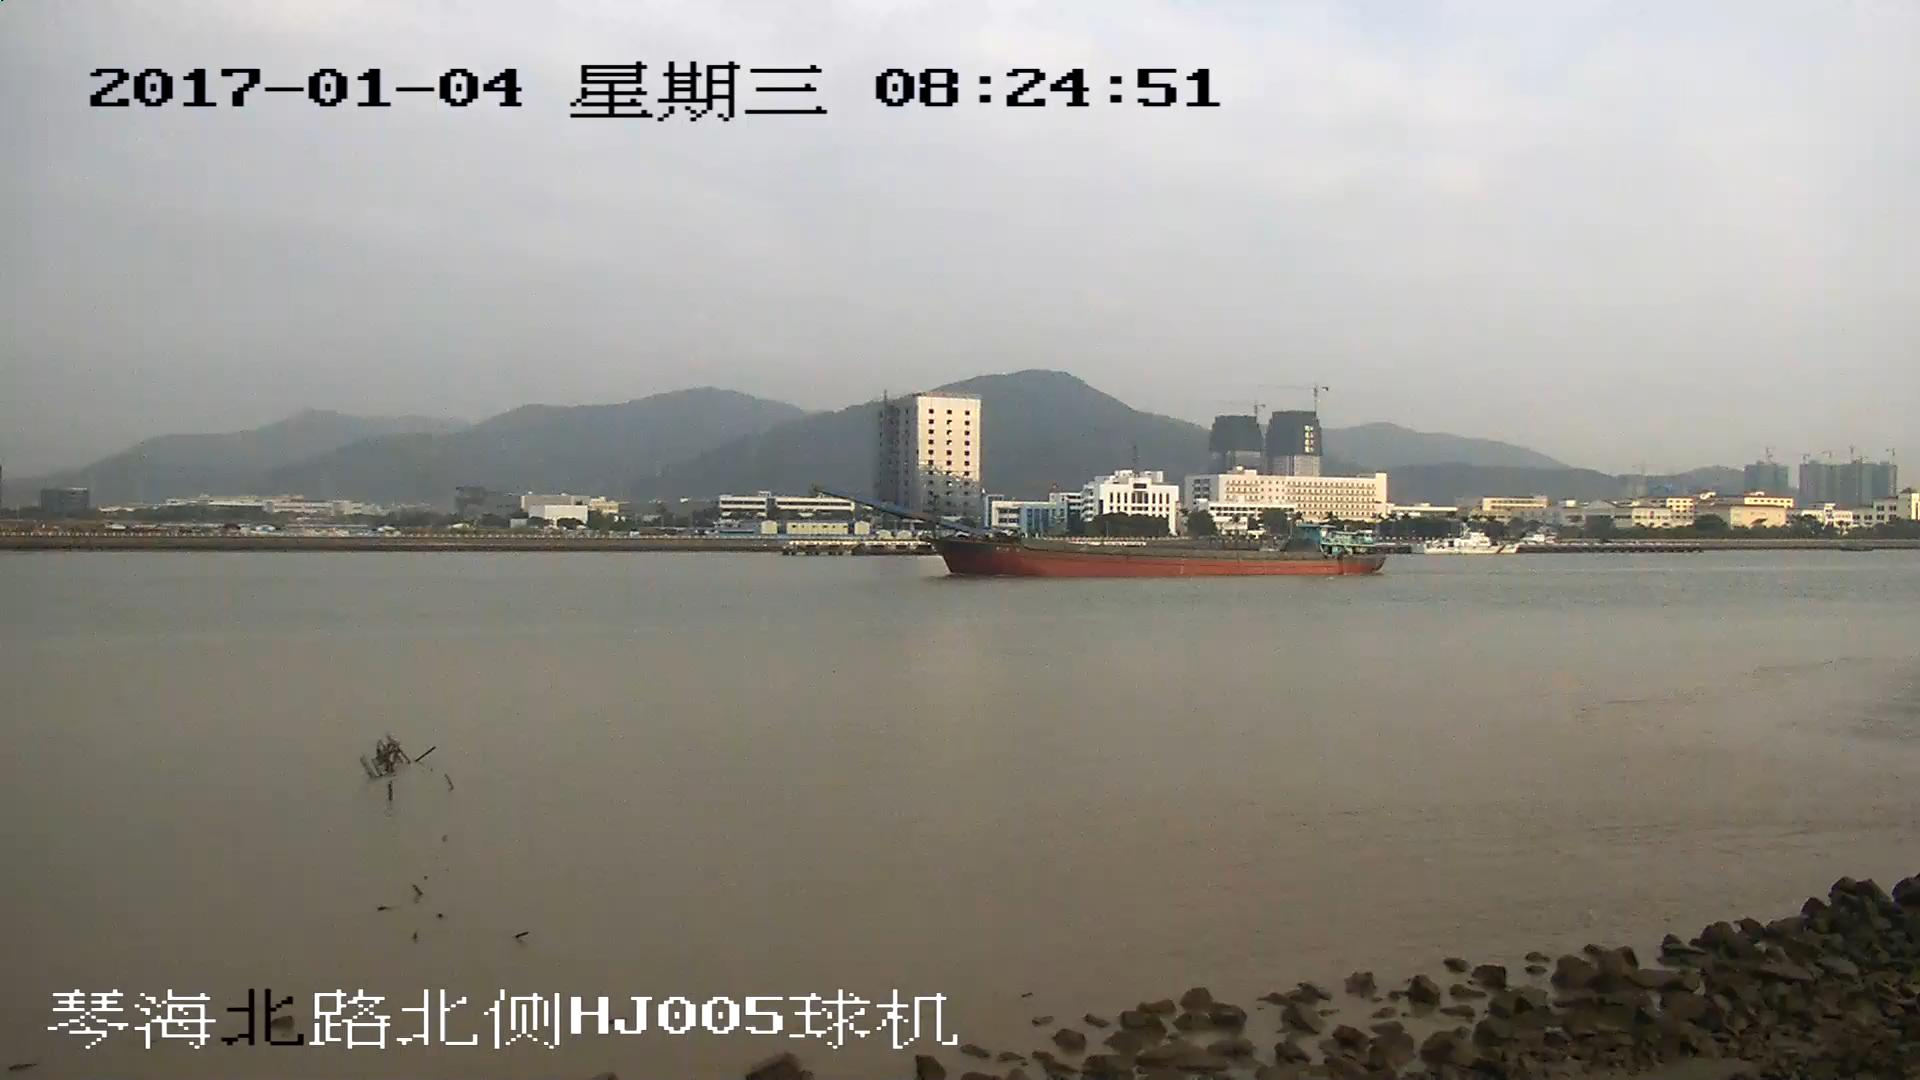bulk cargo carrier: (821, 485, 1386, 575)
